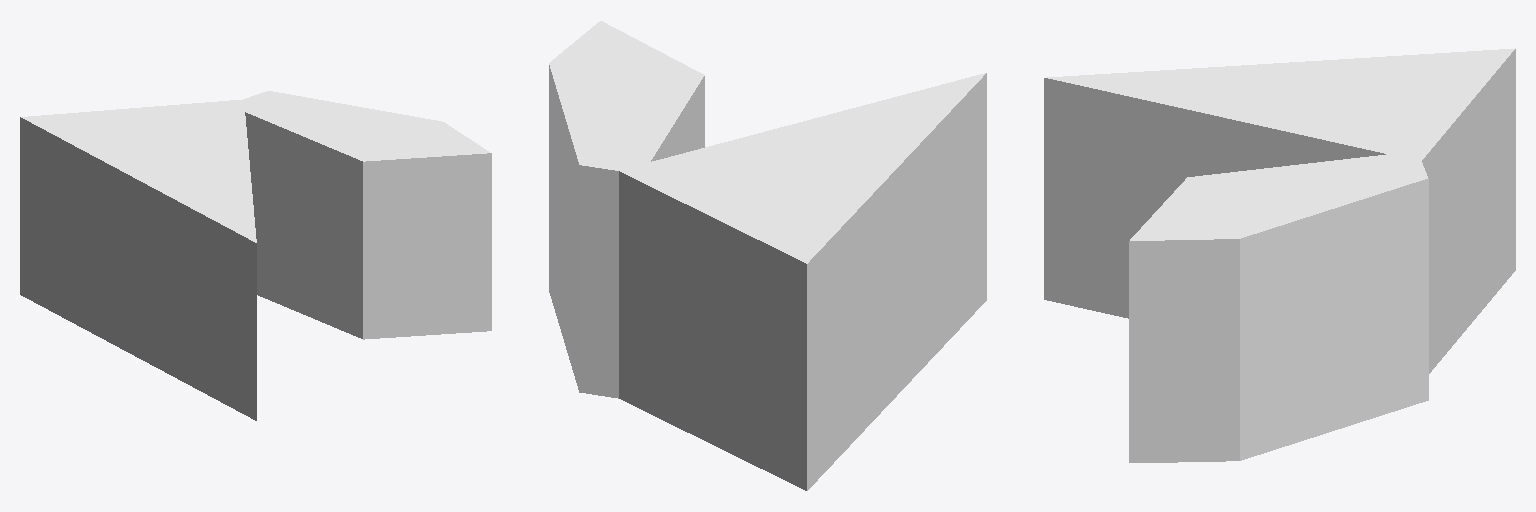
URDF robot description (0):
<?xml version="1.0" ?>
<robot name="0">
  <link concave="yes" name="baseLink">
    <contact>
    	<friction_anchor/>
    	   <lateral_friction value="1.0"/>
    </contact>
    <inertial>
      <origin rpy="0 0 0" xyz="0 0 0"/>
       <!-- mass controls penetration -->
       <mass value=".1"/>
       <inertia ixx="1e-4" ixy="0" ixz="0" iyy="1e-4" iyz="0" izz="1e-4"/>
    </inertial>
    <visual>
      <origin rpy="0 0 0" xyz="0 0.02 0"/>
      <geometry>
        <mesh filename="package://object_datasets/ycb/meshes/0.obj"/>
      </geometry>
       <material name="white">
        <color rgba="1 1 1 1"/>
      </material>
    </visual>
    <collision>
      <origin rpy="0 0 0" xyz="0 0.02 0"/>
      <geometry>
        <mesh filename="package://object_datasets/ycb/meshes/0.obj"/>
      </geometry>
    </collision>
  </link>
</robot>

--- Render facts (derived) ---
Views: 3 orthographic renders of the robot side by side, from view 1: azimuth 30°, elevation 25°; view 2: azimuth 150°, elevation 25°; view 3: azimuth 270°, elevation 25°.
Robot: 0 — 1 links, 0 joints (none); root link baseLink; default pose: every joint at zero.
Links seen in each view (by area): view 1: baseLink; view 2: baseLink; view 3: baseLink.
Link boxes in pixels (left/top/right/bottom): baseLink: left=20, top=91, right=491, bottom=420; baseLink: left=549, top=21, right=986, bottom=490; baseLink: left=1044, top=48, right=1515, bottom=462.
Size in the robot's own frame: 0.1395 by 0.1441 by 0.075 metres.
1 mesh visuals loaded from 1 distinct referenced files (1 OBJ).
